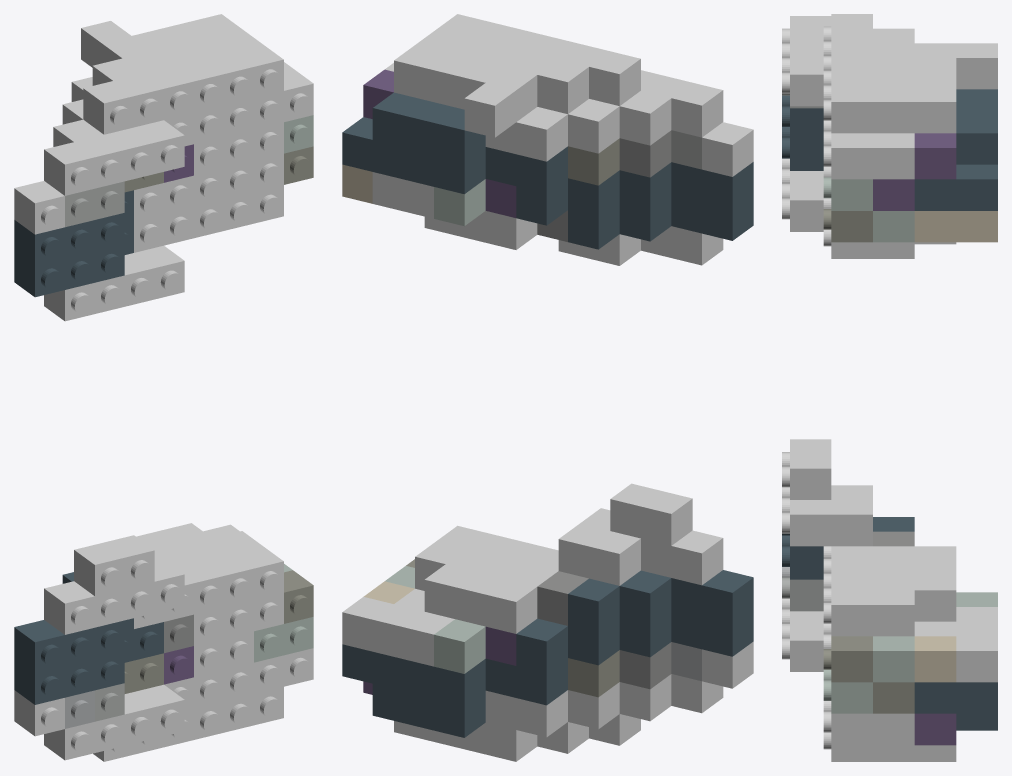
File: full.glb
The picture shows the model from 3 angles, left to right: view 1: azimuth 30°, elevation 25°; view 2: azimuth 150°, elevation 25°; view 3: azimuth 270°, elevation 25°; orthographic projection.
Visible parts, largest first — view 1: world; view 2: world; view 3: world.
Boxes of the visible parts, x1,y1,x2,y2 form: world: [14, 14, 313, 761]; world: [342, 14, 753, 761]; world: [782, 14, 997, 761].
Size of the model in its own units: 80 by 168 by 49.8.
